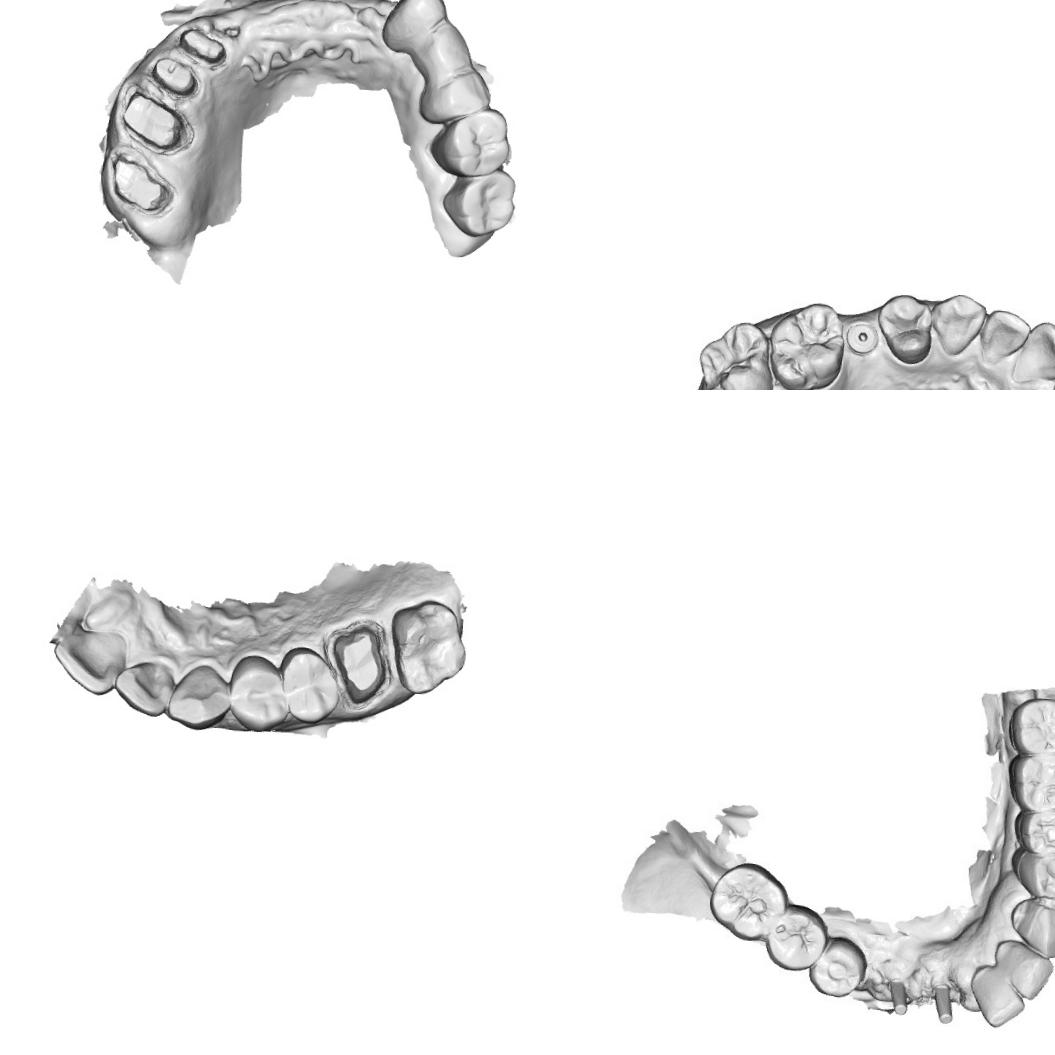abutment: (882, 970, 913, 1022), (928, 977, 958, 1030)
canine: (162, 659, 234, 733), (376, 0, 443, 67), (931, 295, 984, 358), (1006, 893, 1055, 961)
crown: (324, 618, 392, 709), (100, 147, 178, 223), (114, 81, 190, 156), (139, 47, 204, 104), (174, 17, 236, 75)
implant: (844, 316, 883, 359)
incisor: (48, 624, 128, 698), (111, 656, 177, 720), (992, 939, 1055, 1003), (967, 962, 1026, 1030), (980, 307, 1030, 366), (1014, 316, 1055, 386)
molar: (385, 593, 472, 699), (706, 858, 791, 944), (768, 301, 846, 390), (428, 102, 515, 180), (692, 315, 779, 390), (438, 168, 517, 239), (762, 901, 828, 973), (1003, 693, 1055, 758), (1005, 747, 1055, 812)
premolar: (224, 650, 294, 735), (276, 642, 344, 726), (414, 65, 497, 130), (405, 18, 479, 90), (873, 290, 937, 364), (808, 934, 868, 1001), (1009, 847, 1055, 908), (1010, 803, 1055, 858)
